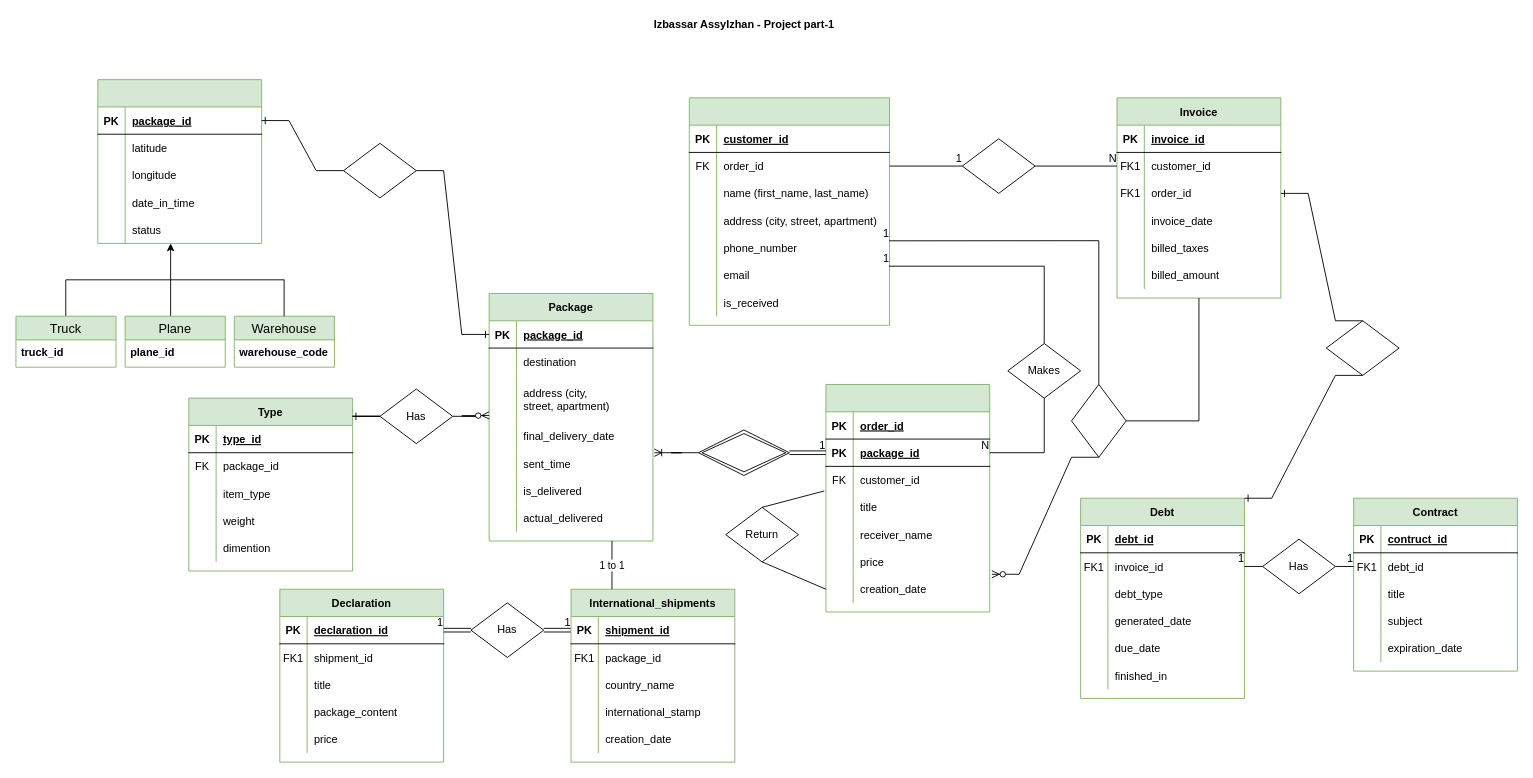
Image size: 1533x778. Some labels were removed from this diagram. The box of each missing label's shape, as (x1, y1, x2, y2) in pixels:
Converts: (1325, 320, 1399, 375)
Customers: (688, 97, 890, 325)
Located: (343, 142, 416, 198)
Location: (97, 79, 262, 243)
Orders: (825, 384, 990, 612)
Pays: (1071, 384, 1126, 457)
Receives: (961, 138, 1035, 193)
Sends: (698, 429, 789, 475)
